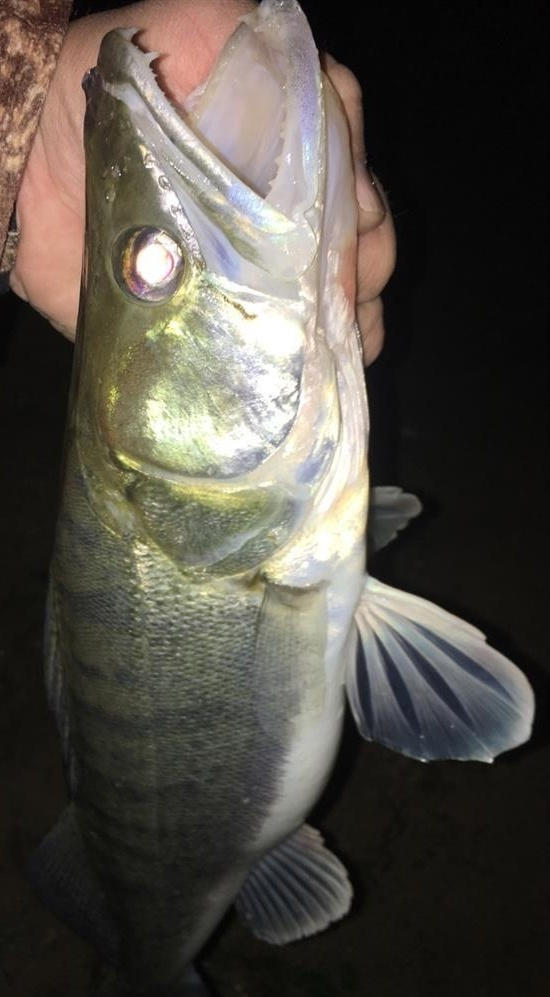Sander lucioperca: (20, 1, 537, 977)
